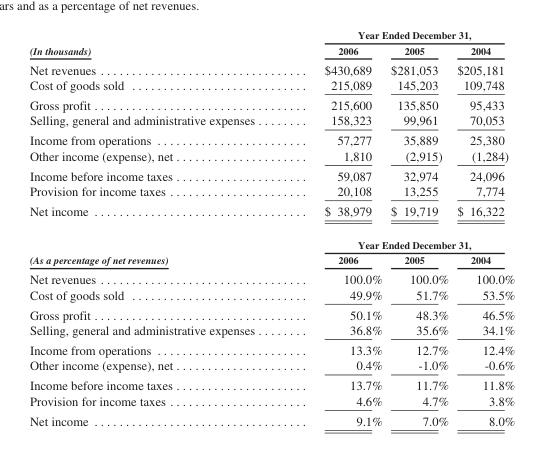table: (28, 29, 514, 427)
table column: (28, 29, 288, 427), (288, 29, 385, 427), (385, 29, 452, 427), (452, 29, 514, 427)
table column header: (28, 29, 514, 59)
table row: (28, 200, 514, 228), (28, 228, 514, 252), (28, 59, 514, 77), (28, 94, 514, 112), (28, 112, 514, 130), (28, 147, 514, 165), (28, 165, 514, 183), (28, 268, 514, 286), (28, 286, 514, 304), (28, 304, 514, 322), (28, 339, 514, 357), (28, 357, 514, 375), (28, 392, 514, 410), (28, 42, 514, 59), (28, 77, 514, 94), (28, 130, 514, 147), (28, 183, 514, 200), (28, 322, 514, 339), (28, 375, 514, 392), (28, 410, 514, 427), (28, 252, 514, 268), (28, 29, 514, 42)
table spanning cell: (28, 29, 288, 59), (288, 228, 514, 252), (288, 29, 514, 42)
